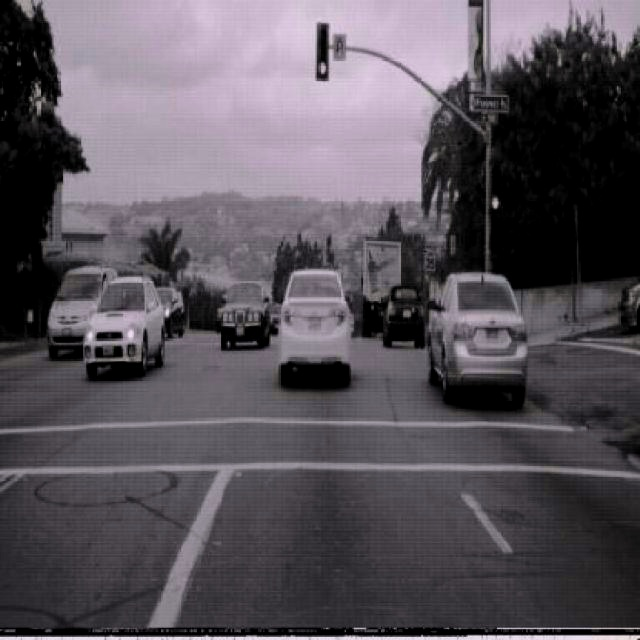speedLimit35: (424, 238, 438, 272)
